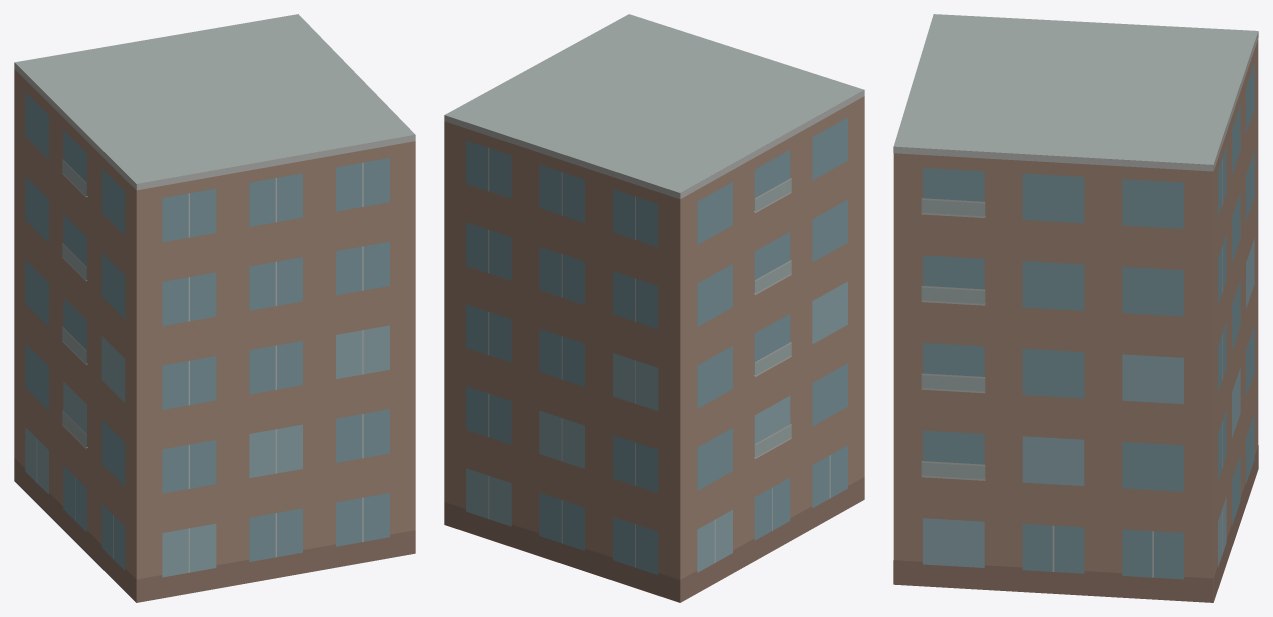
File: survey-upis-32671005.glb
3 views of the same model, side by side, from view 1: azimuth 30°, elevation 25°; view 2: azimuth 150°, elevation 25°; view 3: azimuth 270°, elevation 25° (orthographic). The views are drawn at different scales.
Visible parts, largest first — view 1: survey-upis-32671005.tmp; view 2: survey-upis-32671005.tmp; view 3: survey-upis-32671005.tmp.
Part boxes in pixels (box(x1,y1,x2,y2)): survey-upis-32671005.tmp: box(14, 14, 415, 602); survey-upis-32671005.tmp: box(444, 14, 864, 602); survey-upis-32671005.tmp: box(893, 14, 1258, 602).
Size of the model in its own units: 11.9 by 16.1 by 12.17.
